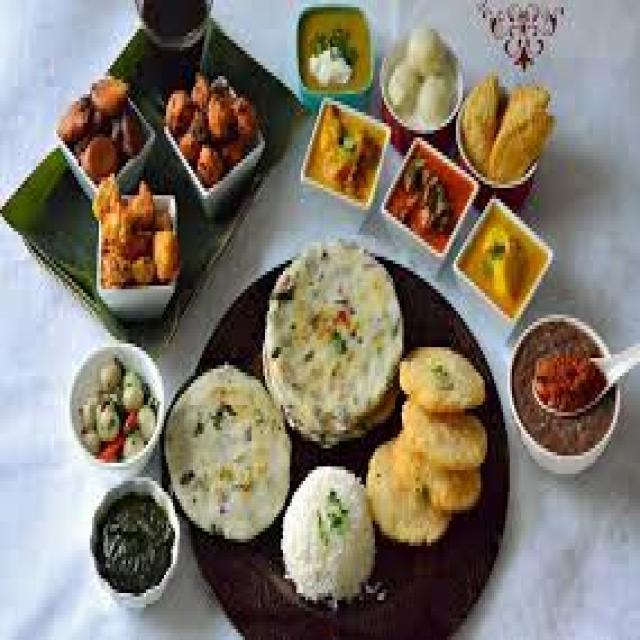dal: (164, 362, 292, 543)
papad: (374, 339, 506, 539)
pickle: (515, 312, 613, 441)
roti: (261, 231, 402, 451), (88, 161, 188, 315)
sambar-rasam: (288, 0, 376, 103), (130, 0, 217, 44)
sweet: (57, 88, 137, 197)
veg-fry: (89, 156, 189, 316), (165, 61, 267, 198)
